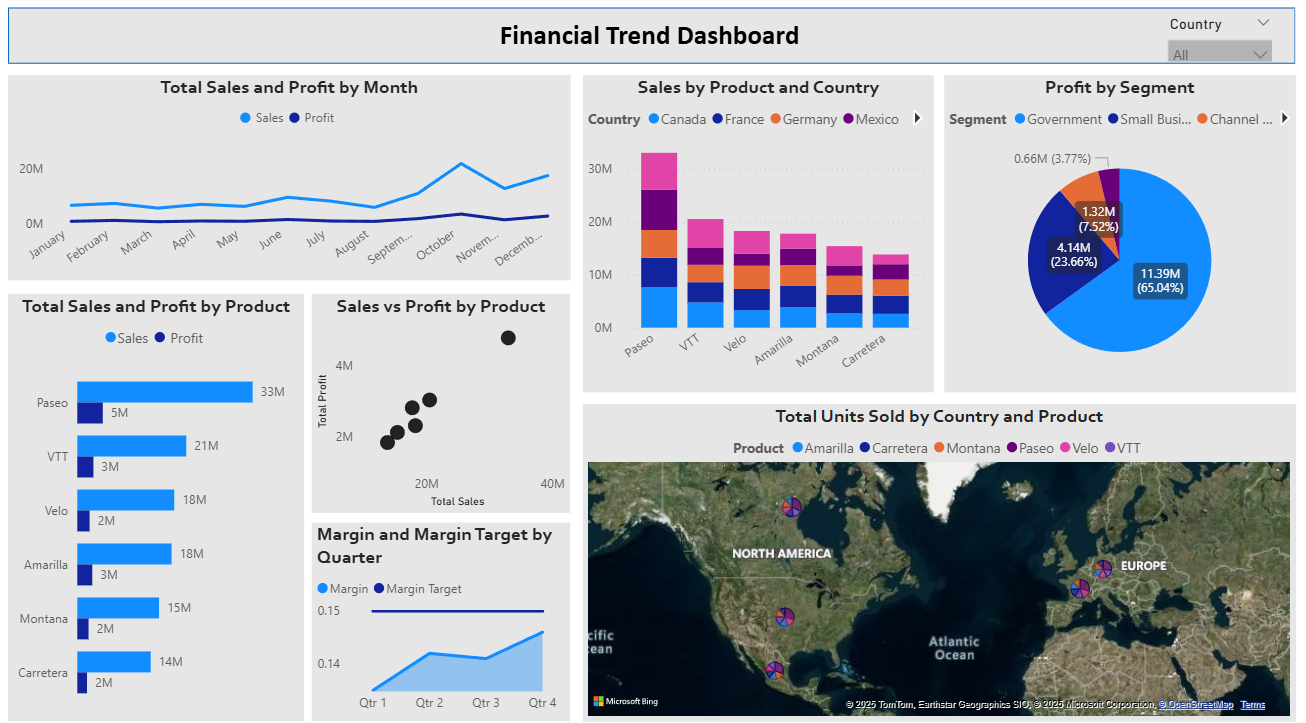

The dashboard page shown, as its layout file describes it:
{"tool":"powerbi","page":{"name":"Overview","canvas":[1280,720],"ordinal":0},"visuals":[{"type":"map","title":"Total Units Sold by Country and Product","fields":{"Category":["financials.Country"],"Series":["financials.Product"],"Size":["Sum(financials.Units Sold)"]},"box":[572.3,399.9,697,310.6],"z":0},{"type":"lineChart","title":"Total Sales and Profit by Month","fields":{"Category":["financials.Date.Variation.Date Hierarchy.Month"],"Y":["Sum(financials.Sales)","Sum(financials.Profit)"]},"box":[9.8,78.3,550.3,200.5],"z":1000},{"type":"clusteredBarChart","title":"Total Sales and Profit by Product","fields":{"Category":["financials.Product"],"Y":["Sum(financials.Sales)","Sum(financials.Profit)"]},"box":[9.8,292.3,289.8,418.2],"z":2000},{"type":"scatterChart","title":"Sales vs Profit by Product","fields":{"Category":["financials.Product"],"X":["Sum(financials.Sales)"],"Y":["Sum(financials.Profit)"]},"box":[307.4,292.3,252.5,214.1],"z":3000},{"type":"shape","box":[9.8,12.2,1259.5,55],"z":4000},{"type":"textbox","box":[398.6,17.1,483,50.1],"z":5000},{"type":"slicer","fields":{"Values":["financials.Country"]},"box":[1133.6,14.7,123.5,50.1],"z":6000},{"type":"areaChart","fields":{"Category":["financials.Date.Variation.Date Hierarchy.Quarter"],"Y":["financials.Margin","financials.Margin Traget"]},"box":[306.9,516,253.1,194.4],"z":6002},{"type":"pieChart","title":"Profit by Segment","fields":{"Category":["financials.Segment"],"Y":["Sum(financials.Profit)"]},"box":[925.7,78.3,343.6,310.6],"z":6003},{"type":"columnChart","title":"Sales by Product and Country","fields":{"Category":["financials.Product"],"Y":["Sum(financials.Sales)"],"Series":["financials.Country"]},"box":[572.2,78.2,343.1,310.1],"z":6004}]}

Visuals, with their boxes in screenshot pixels (x1, y1, x2, y2), scaled from the page's 1280x720 canvas onto the 1306x723 screenshot:
"Total Units Sold by Country and Product" map: {"left": 584, "top": 402, "right": 1295, "bottom": 713}
"Total Sales and Profit by Month" lineChart: {"left": 10, "top": 79, "right": 571, "bottom": 280}
"Total Sales and Profit by Product" clusteredBarChart: {"left": 10, "top": 294, "right": 306, "bottom": 713}
"Sales vs Profit by Product" scatterChart: {"left": 314, "top": 294, "right": 571, "bottom": 509}
shape: {"left": 10, "top": 12, "right": 1295, "bottom": 67}
textbox: {"left": 407, "top": 17, "right": 900, "bottom": 67}
slicer - financials.Country: {"left": 1157, "top": 15, "right": 1283, "bottom": 65}
areaChart - financials.Date.Variation.Date Hierarchy.Quarter x financials.Margin: {"left": 313, "top": 518, "right": 571, "bottom": 713}
"Profit by Segment" pieChart: {"left": 945, "top": 79, "right": 1295, "bottom": 391}
"Sales by Product and Country" columnChart: {"left": 584, "top": 79, "right": 934, "bottom": 390}
